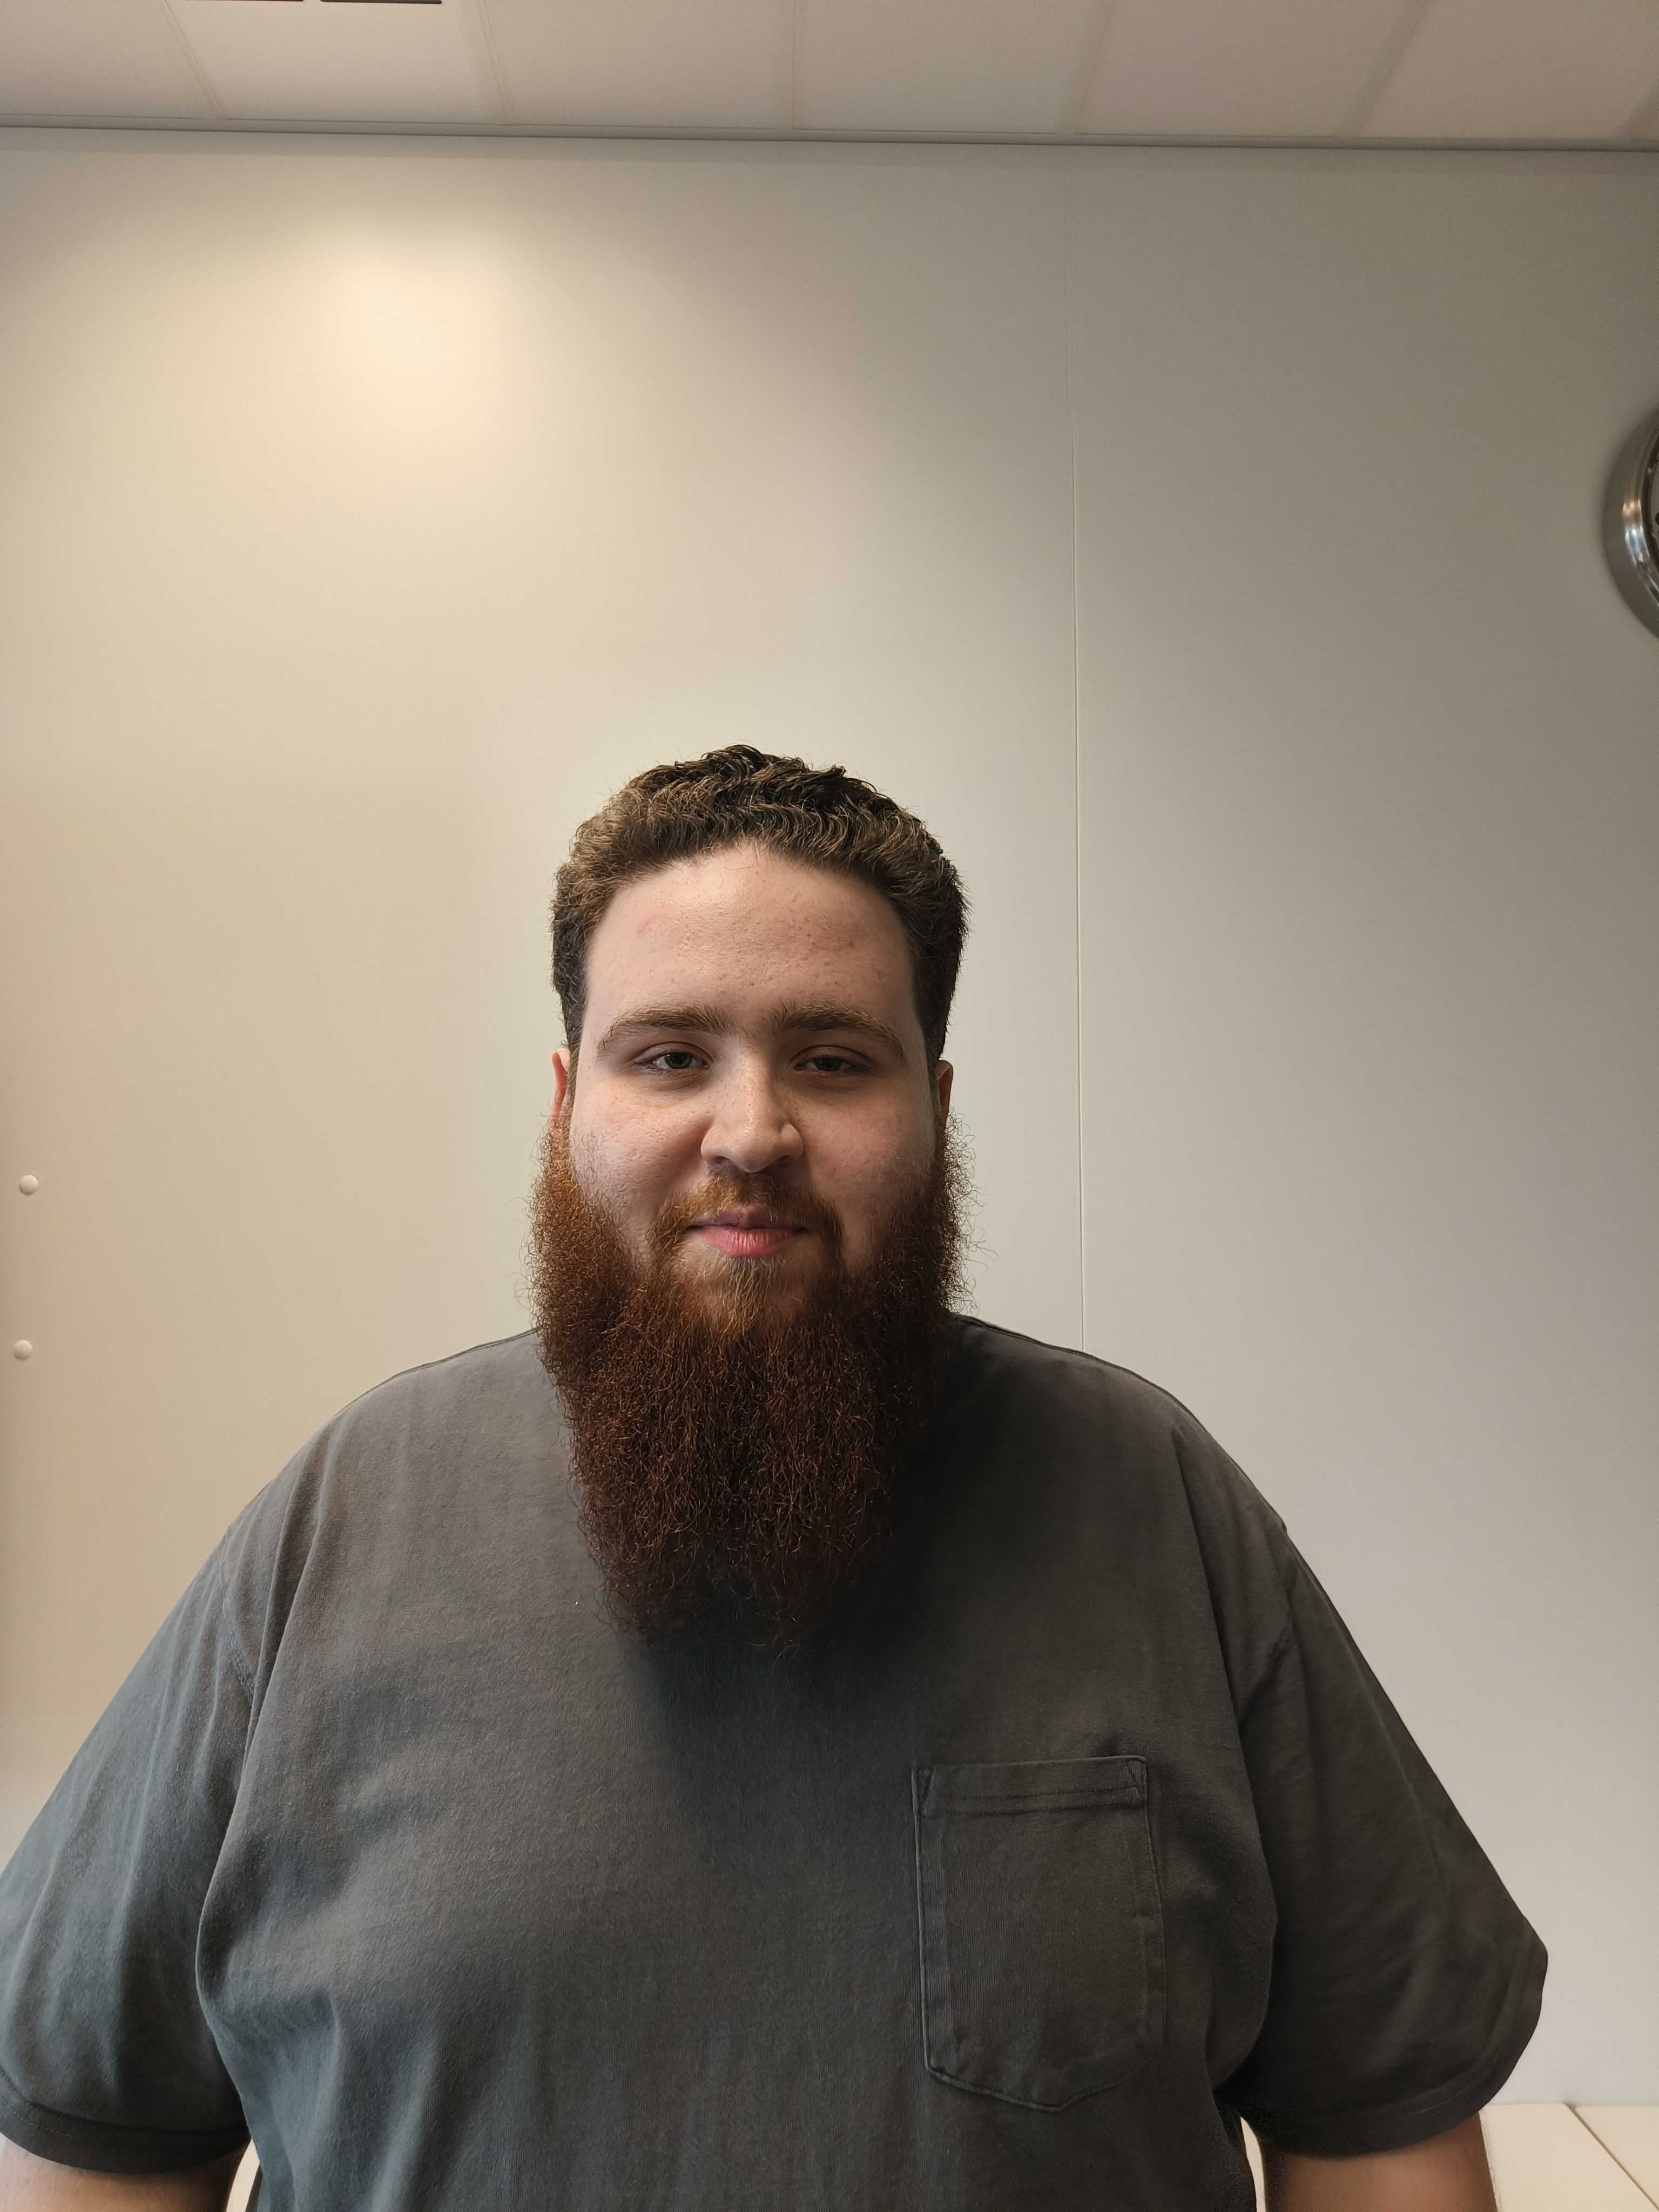face: (569, 765, 1061, 1346)
